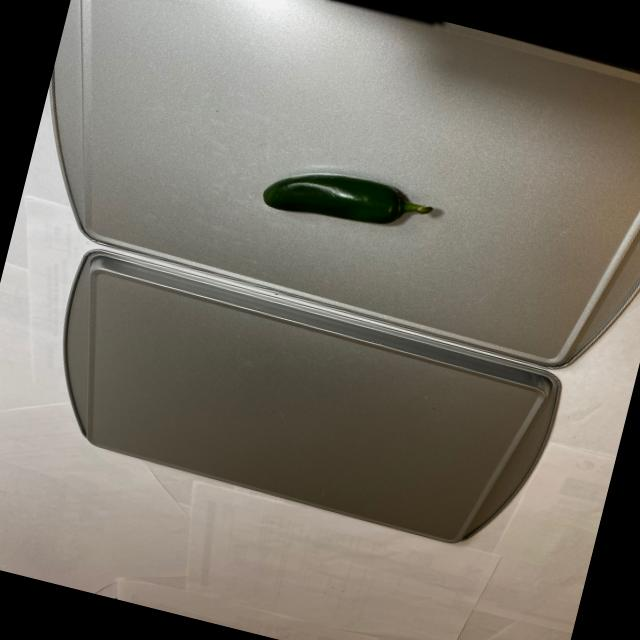chilli: (245, 148, 460, 262)
